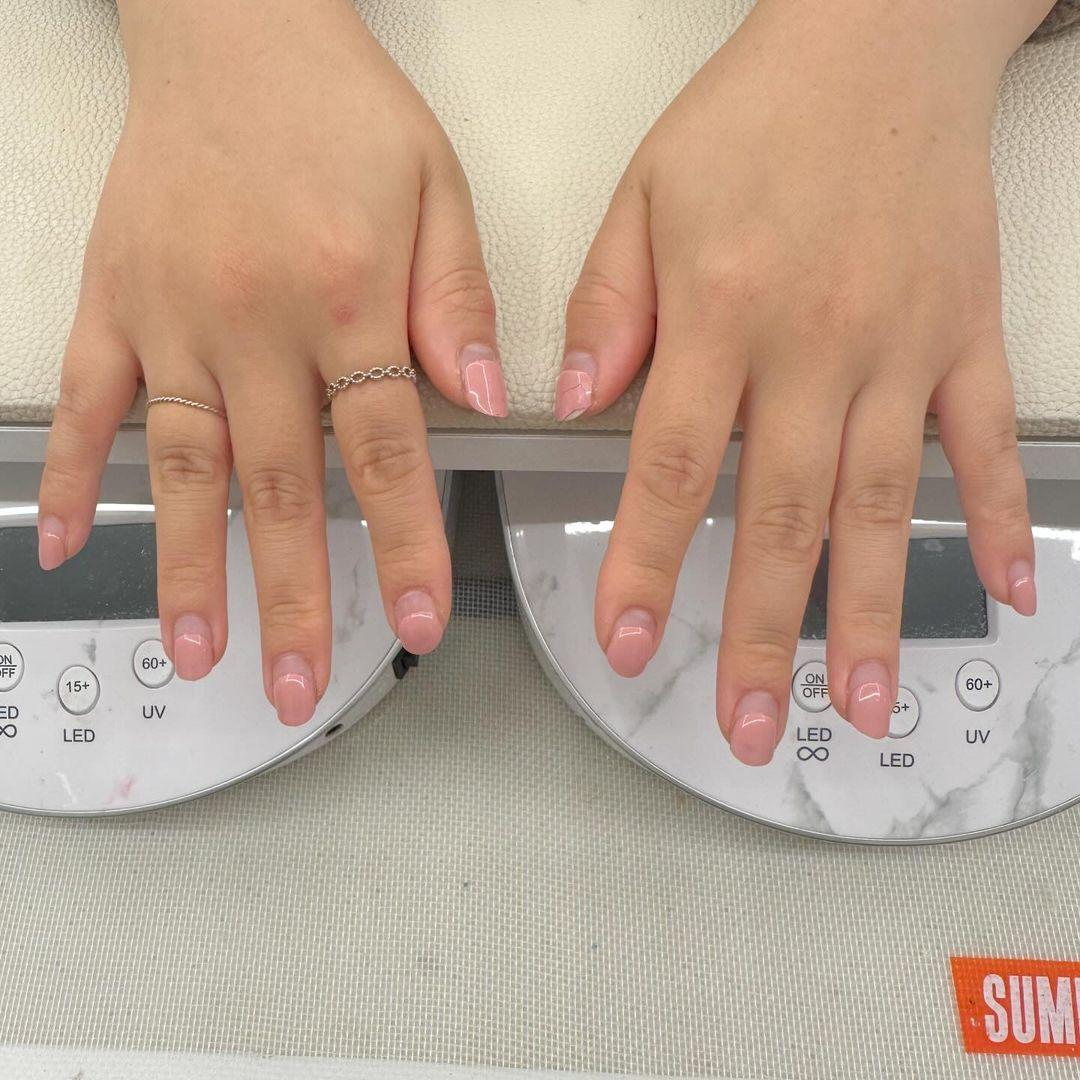nail: (728, 688, 778, 766), (845, 658, 892, 739), (604, 605, 656, 677), (459, 343, 508, 418), (271, 650, 316, 726), (393, 588, 443, 655), (553, 350, 596, 422), (171, 612, 214, 680), (36, 514, 67, 571), (1007, 559, 1036, 616)
